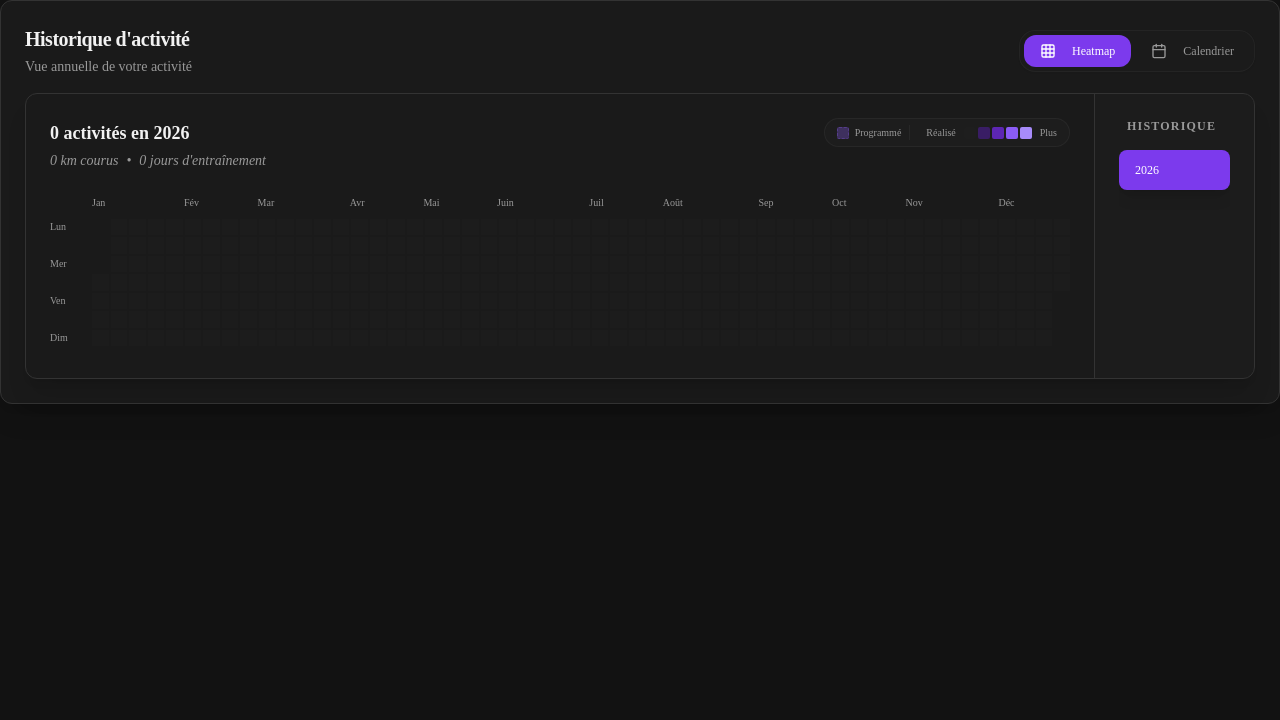
ActivityHistory › switches to heatmap view when clicking Heatmap button
Click the button "Calendrier" at (1193, 51), box [1135, 35, 1250, 67]
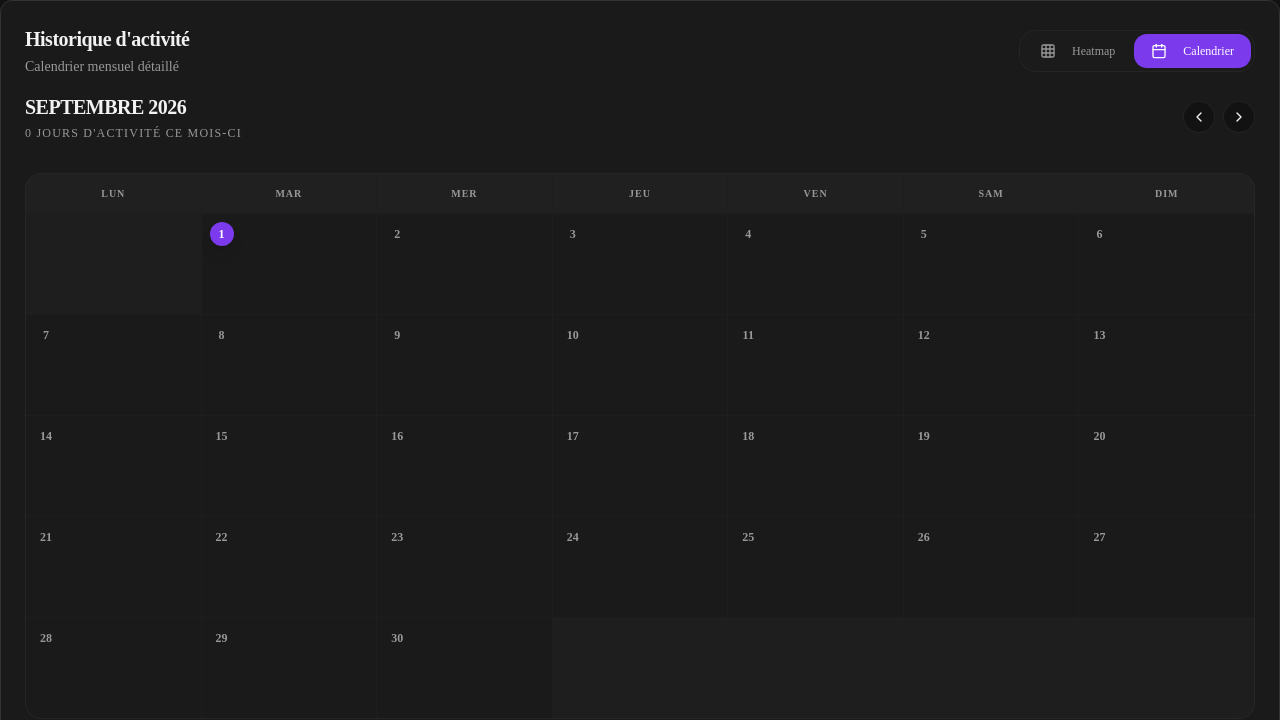
Expected: the text "Calendrier mensuel détaillé" is shown, [25, 57, 190, 77]
Click the button "Heatmap" at (1078, 51), box [1024, 35, 1131, 67]
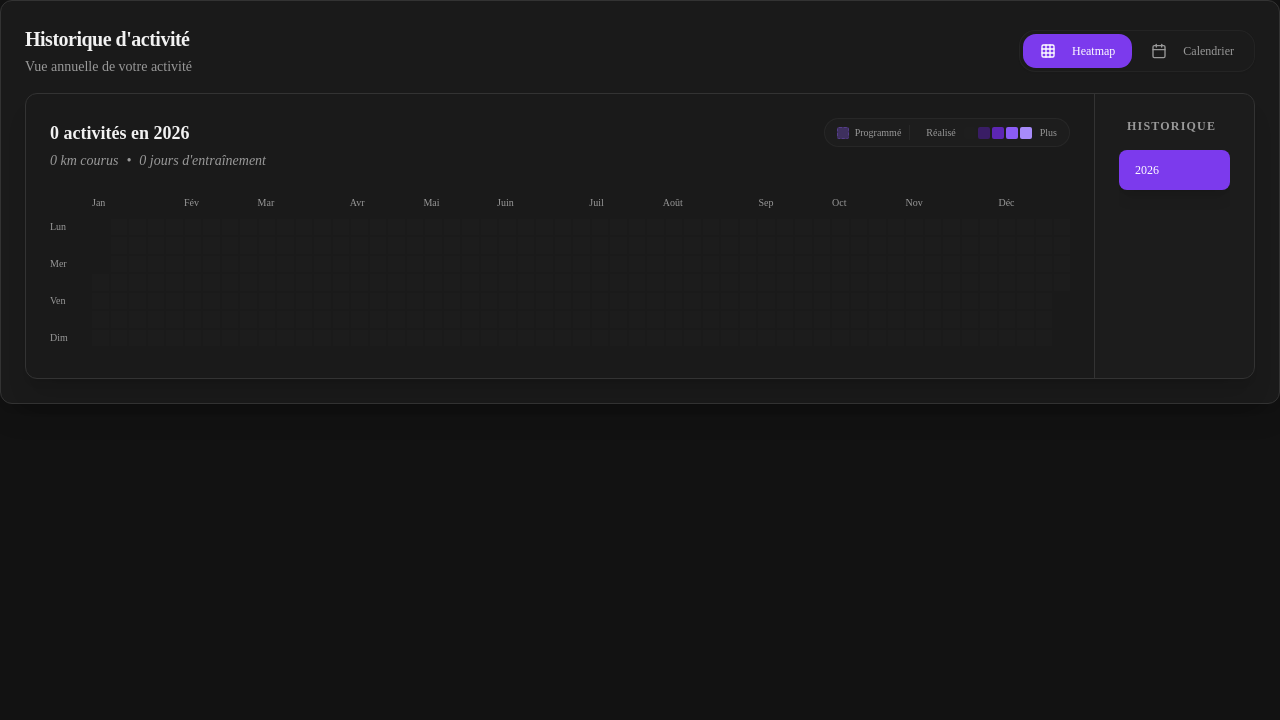
Expected: the text "Vue annuelle de votre activité" is shown, [25, 57, 192, 77]
